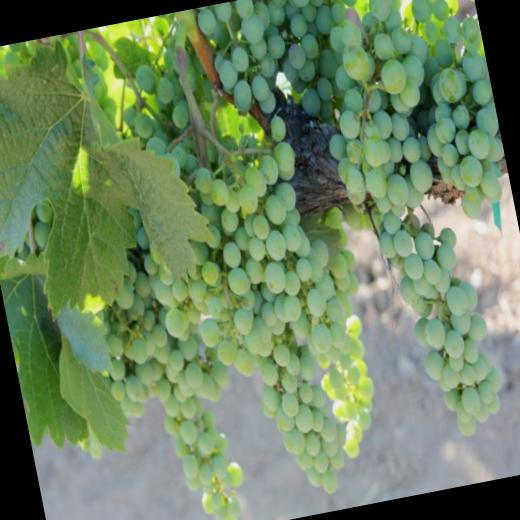Orange: (30, 0, 520, 520), (32, 218, 54, 248), (34, 199, 54, 226), (23, 230, 38, 248)
